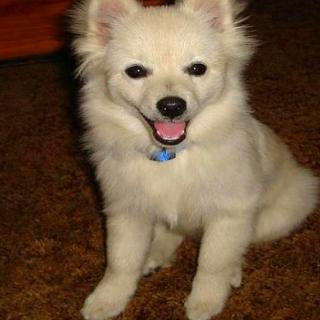dog: (69, 0, 259, 181)
nose: (153, 93, 188, 122)
